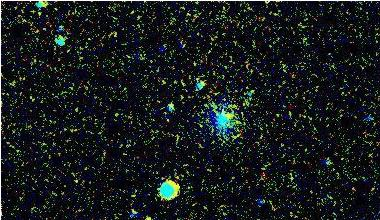star: (212, 102, 242, 132)
